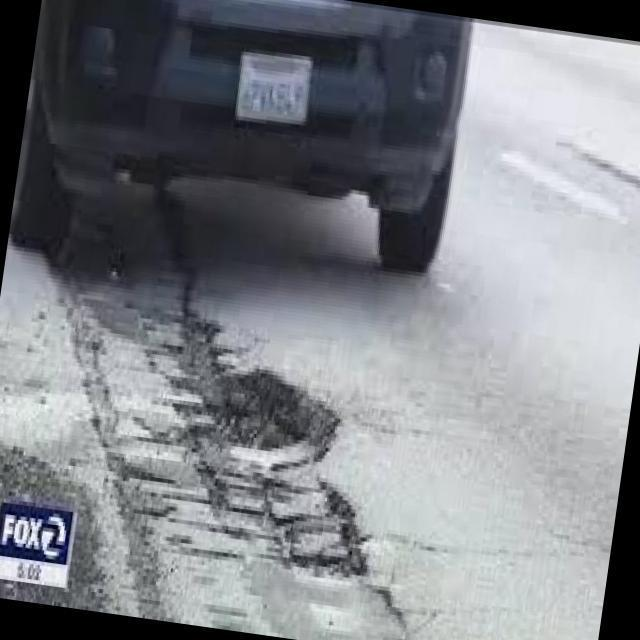Pothole: (60, 285, 363, 572)
